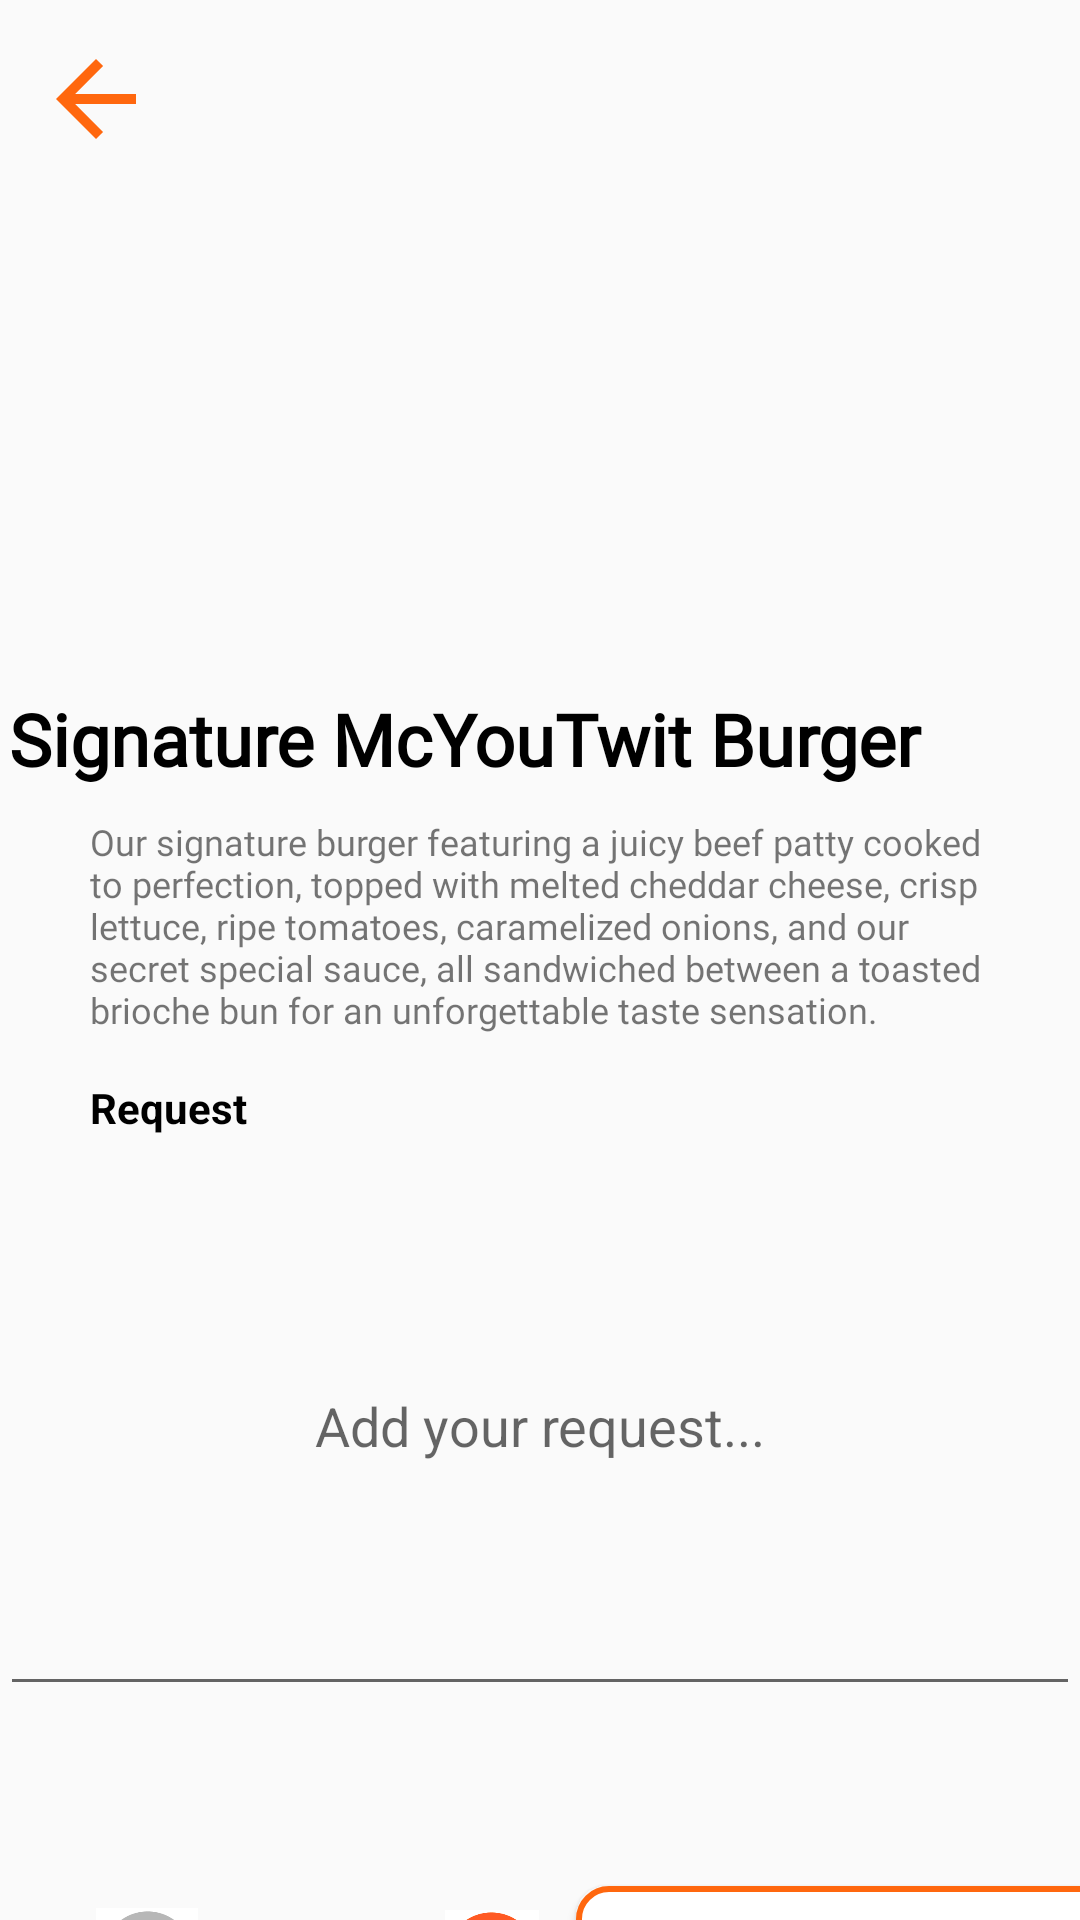

Icons on this 1080 × 1920 Android screen, each with the point to tap as (x,y):
arrow back: (96,99)
